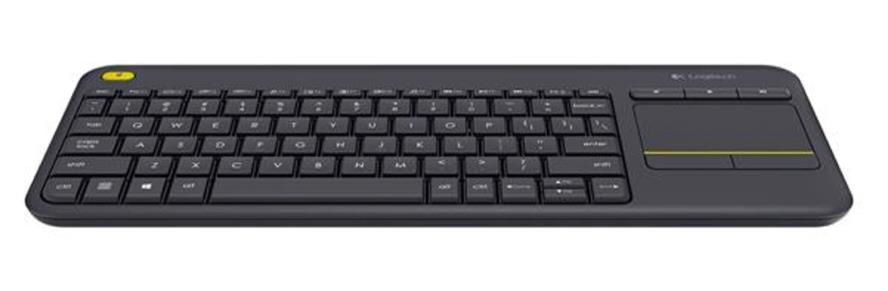logitech-keyboard-k400: (24, 65, 852, 239)
